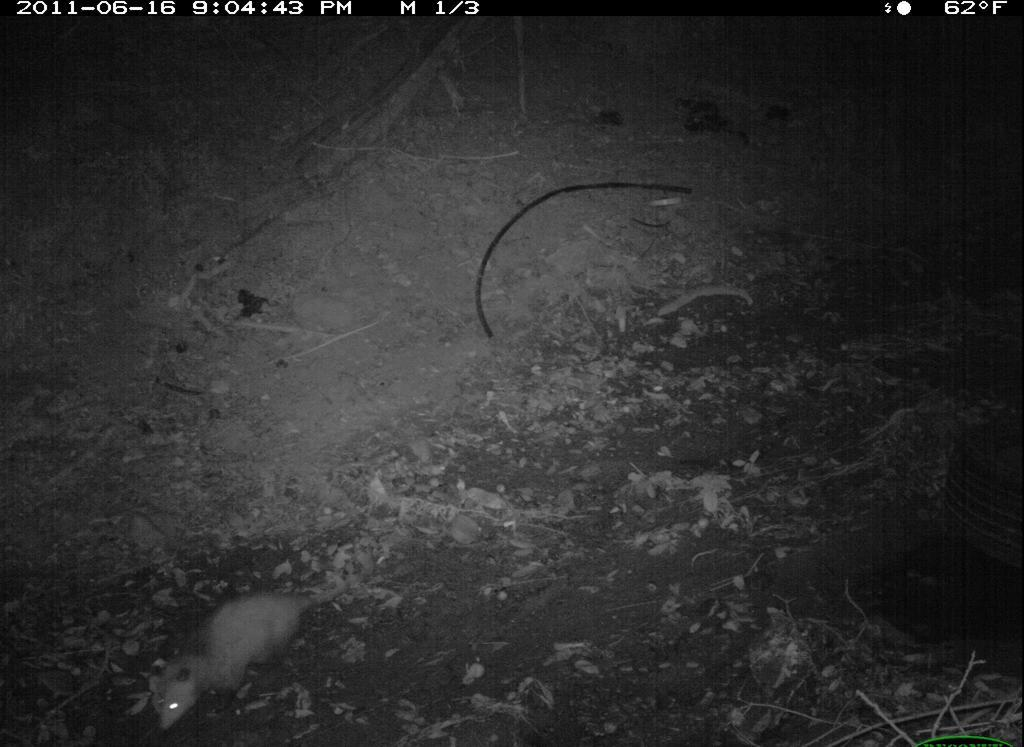opossum: (137, 577, 397, 728)
